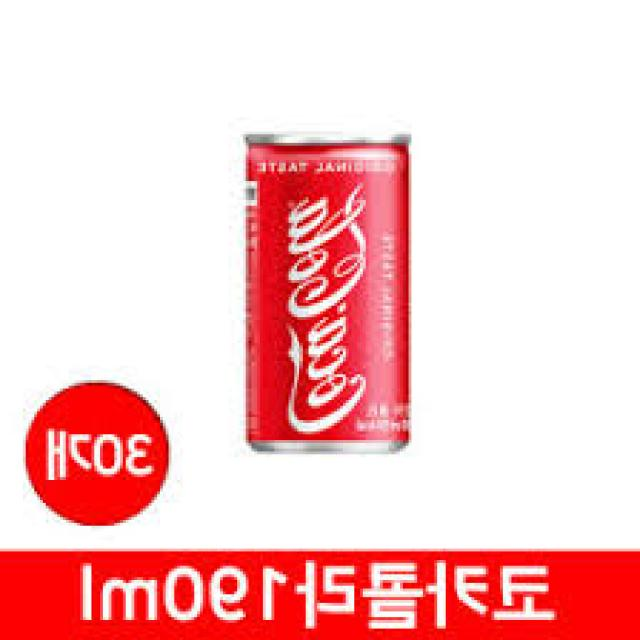Coca-Cola: (228, 121, 425, 461)
